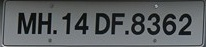character: (16, 12, 36, 34), (94, 11, 110, 35), (110, 10, 125, 35), (130, 12, 145, 35), (178, 12, 192, 36), (74, 12, 88, 35), (146, 12, 160, 35), (37, 12, 51, 34), (162, 13, 176, 35), (62, 11, 72, 34)
